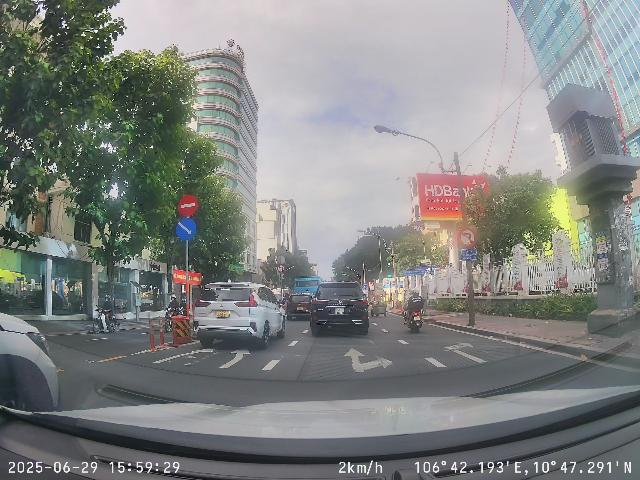102-cam-di-nguoc-chieu: (178, 194, 198, 216)
123a-cam-re-trai: (458, 228, 476, 247), (277, 265, 285, 273)
302a-huong-phai-di-vong-chuong-ngai-vat-1: (176, 218, 196, 240)
